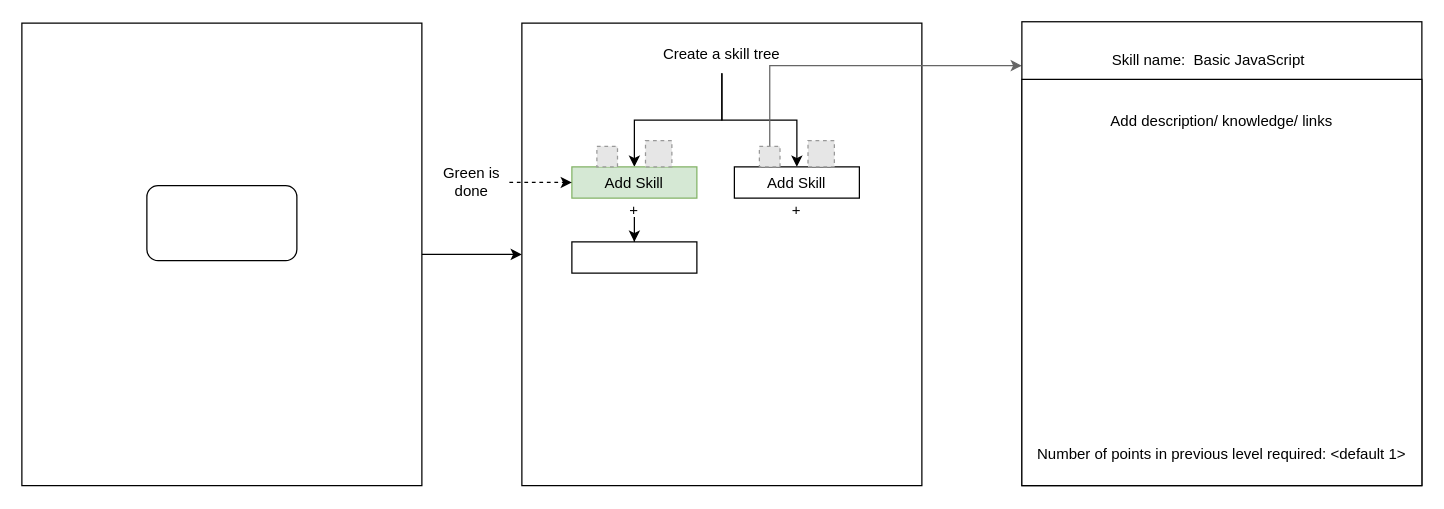
This 1444x509 diagram has some shape labels left out. Grey dashed boxes stand in for pictures. The centre of each missing label's shape, as x and y in pixels:
"...more skills" belongs at point 634,257.
"Log in with google" belongs at point 221,222.
